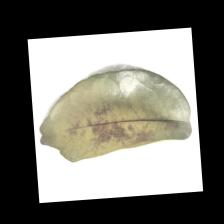canker: (66, 93, 179, 144)
